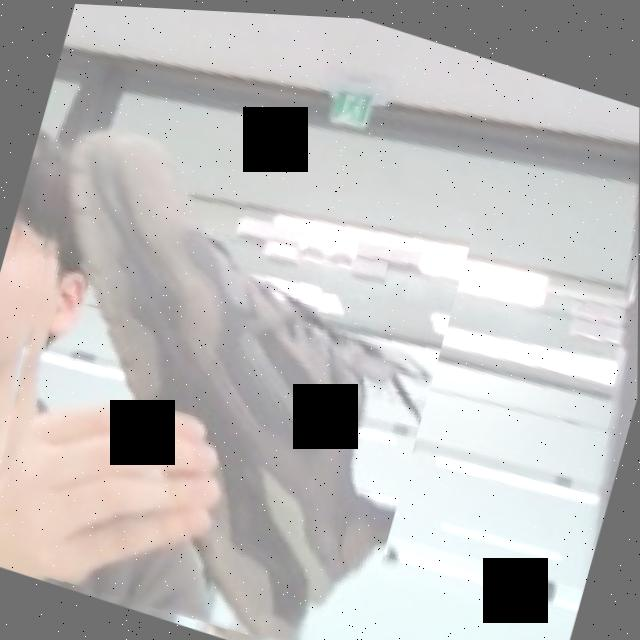shoe: (0, 82, 479, 640)
